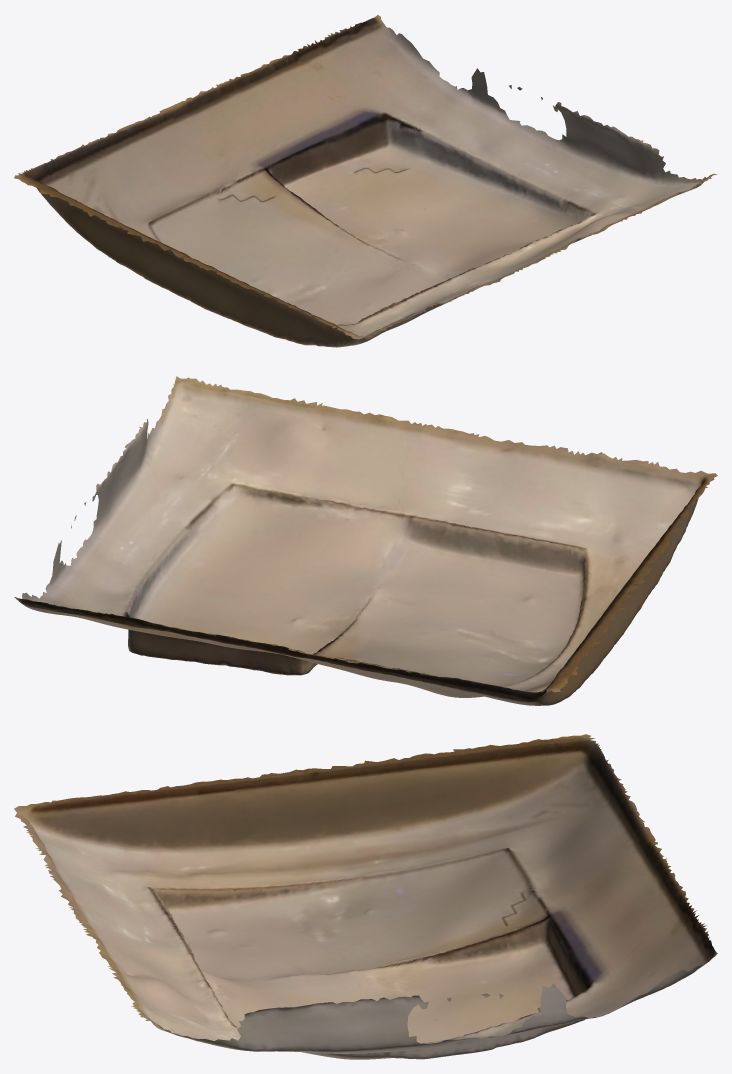
3 renders of one model, top to bottom at view 1: azimuth 30°, elevation 25°; view 2: azimuth 150°, elevation 25°; view 3: azimuth 270°, elevation 25°, orthographic. The views are drawn at different scales.
Visible parts, largest first — view 1: 3DModel; view 2: 3DModel; view 3: 3DModel.
Boxes of the visible parts, x1,y1,x2,y2 form: 3DModel: (14, 14, 717, 347); 3DModel: (14, 376, 717, 705); 3DModel: (14, 734, 717, 1059).
Size of the model in its own units: 0.5727 by 0.1093 by 0.5645.
Materials: 1 (1 with a texture image).
